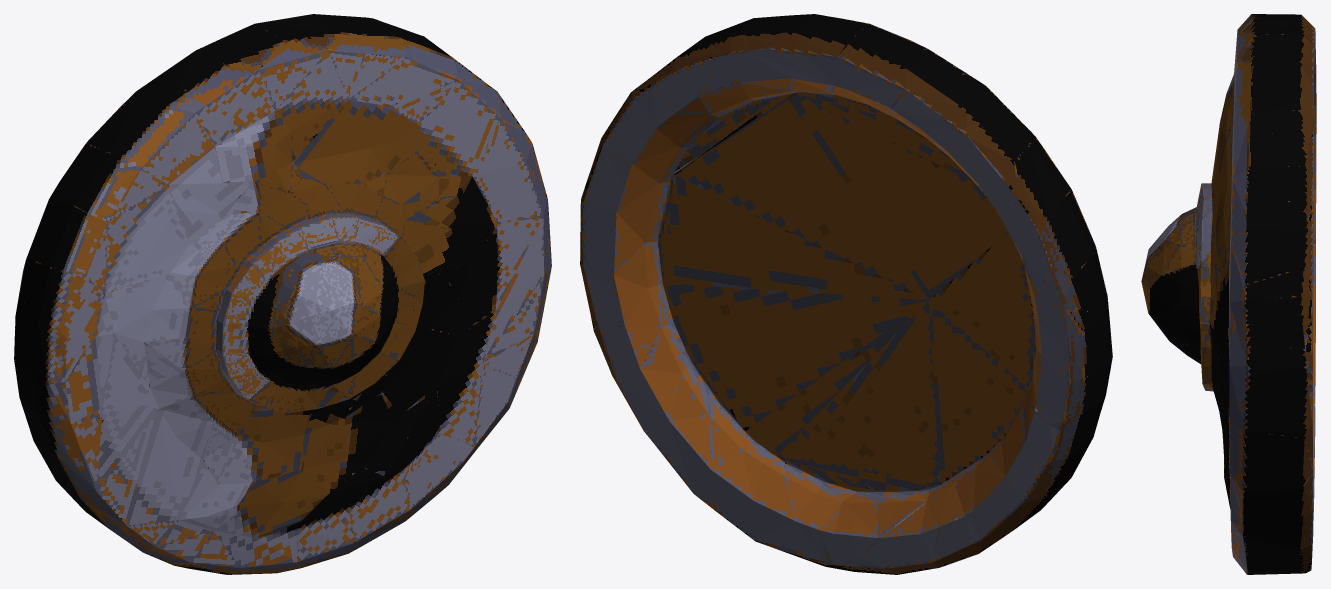
3 renders of one model, left to right at view 1: azimuth 30°, elevation 25°; view 2: azimuth 150°, elevation 25°; view 3: azimuth 270°, elevation 25°, orthographic. The views are drawn at different scales.
Visible parts, largest first — view 1: OBJ03d; view 2: OBJ03d; view 3: OBJ03d.
Part boxes in pixels (bbox=[...]): OBJ03d: bbox=[14, 14, 551, 574]; OBJ03d: bbox=[580, 14, 1112, 574]; OBJ03d: bbox=[1141, 14, 1316, 574].
Bounding box in the file's own units: 0.3201 × 0.3199 × 0.0999.
1 material, 1 textured.
